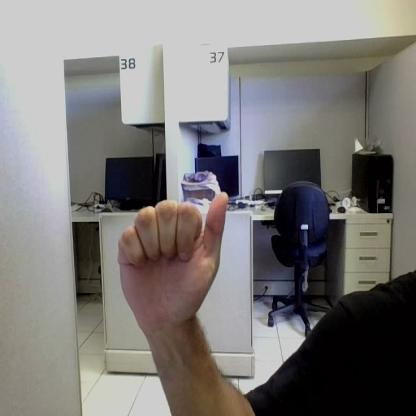A: (117, 192, 228, 307)
